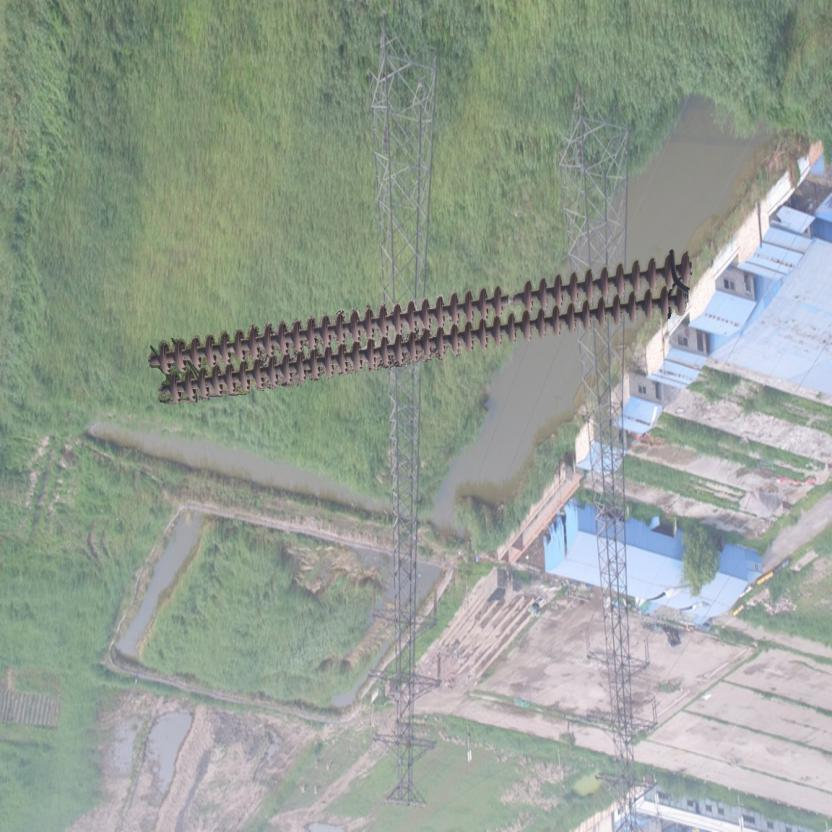defect: (488, 280, 540, 318)
